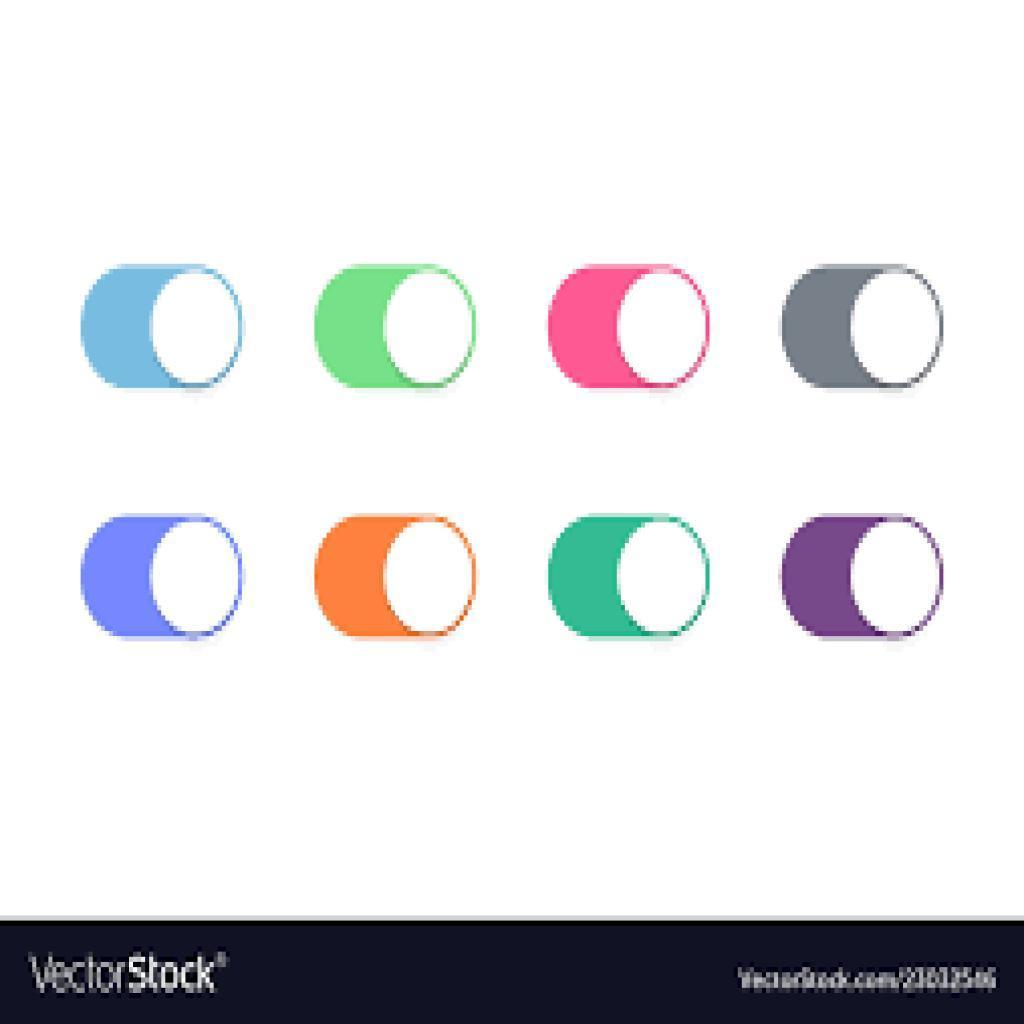switch: (772, 256, 953, 403), (537, 250, 712, 400), (311, 502, 484, 651), (775, 508, 956, 645), (74, 504, 249, 643), (310, 256, 478, 400), (539, 508, 710, 645), (82, 256, 249, 394)
